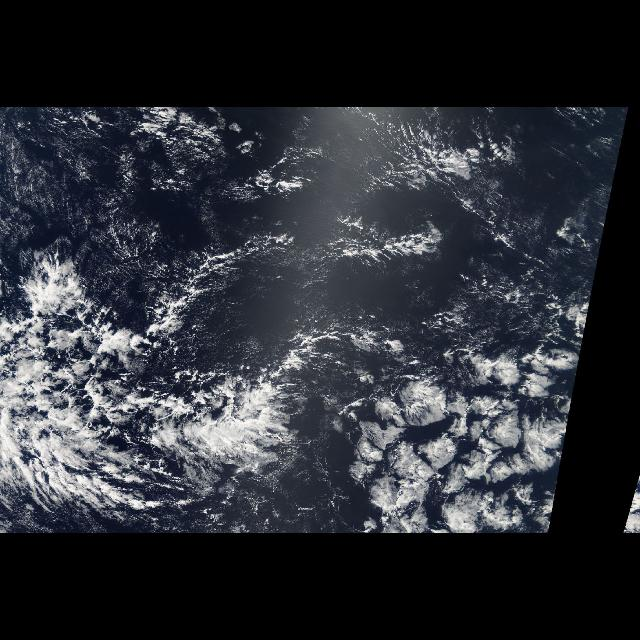Fish: (1, 107, 526, 517)
Flower: (333, 338, 562, 534)
Sugar: (1, 112, 162, 235)
